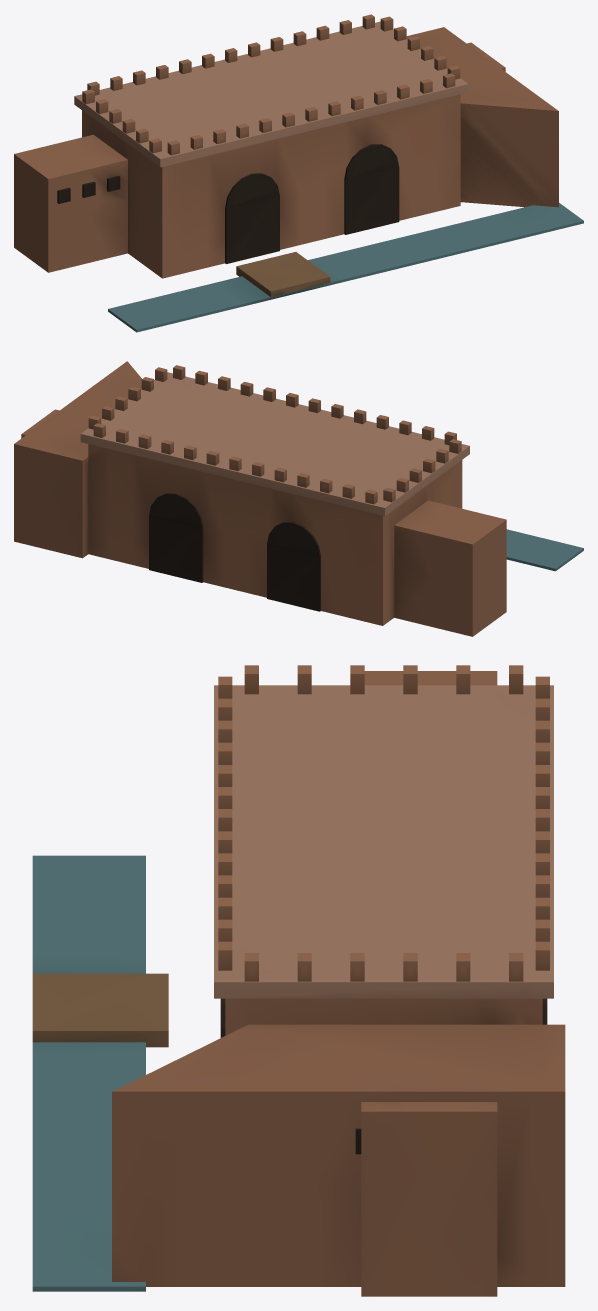
The model's file is kashmiri-gate-1850.glb.
The picture shows the model from 3 angles, top to bottom: view 1: azimuth 30°, elevation 25°; view 2: azimuth 150°, elevation 25°; view 3: azimuth 270°, elevation 25°; orthographic projection. The views are drawn at different scales.
Parts seen in each view (by area): view 1: p0_gate, p1_walls; view 2: p0_gate, p1_walls; view 3: p0_gate, p1_walls.
Part boxes in pixels (bbox=[...]): p0_gate: bbox=[74, 14, 583, 332]; p1_walls: bbox=[14, 27, 558, 296]; p0_gate: bbox=[80, 365, 583, 625]; p1_walls: bbox=[14, 361, 506, 636]; p0_gate: bbox=[32, 665, 553, 1291]; p1_walls: bbox=[32, 671, 565, 1296].
Bounding box in the file's own units: 46 × 12.79 × 23.5.
